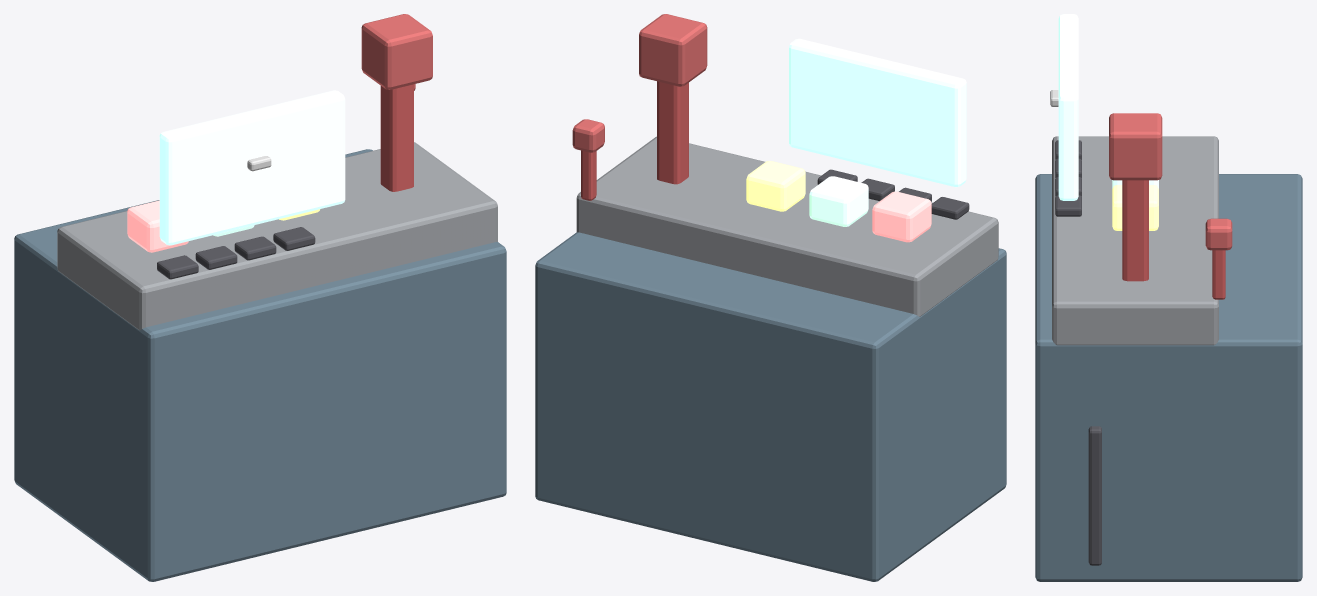
File: пульт_люка.glb
The picture shows the model from 3 angles, left to right: view 1: azimuth 30°, elevation 25°; view 2: azimuth 150°, elevation 25°; view 3: azimuth 270°, elevation 25°; orthographic projection. The views are drawn at different scales.
Parts seen in each view (by area): view 1: пульт_люка; view 2: пульт_люка; view 3: пульт_люка.
Boxes of the visible parts, x1,y1,x2,y2 form: пульт_люка: (14,14,506,581); пульт_люка: (535,14,1006,581); пульт_люка: (1035,14,1302,581).
Size of the model in its own units: 1.24 by 1.43 by 0.8.
